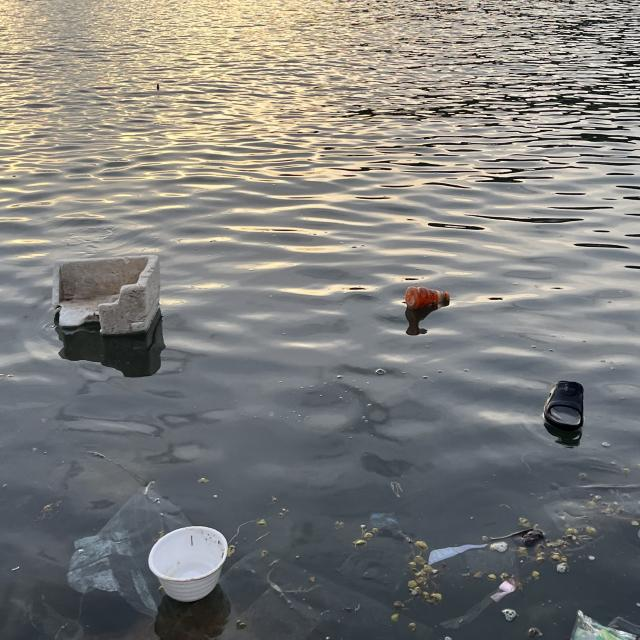foam: (51, 255, 163, 337), (148, 526, 226, 600)
plastic: (406, 287, 450, 308)
plastic bottle: (228, 546, 420, 640), (65, 484, 192, 616), (338, 512, 418, 589), (440, 580, 514, 630), (543, 494, 640, 532), (568, 610, 640, 640), (428, 543, 487, 565), (637, 526, 640, 544)
unknow: (543, 381, 584, 434)
